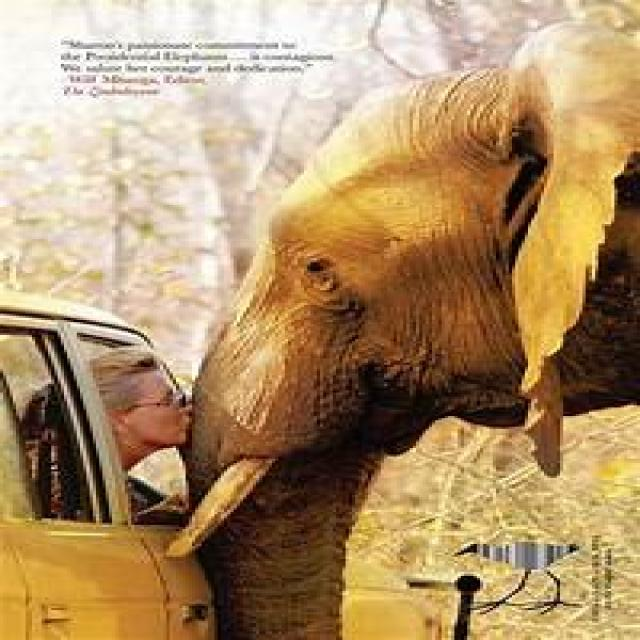elephant: (166, 21, 640, 640)
